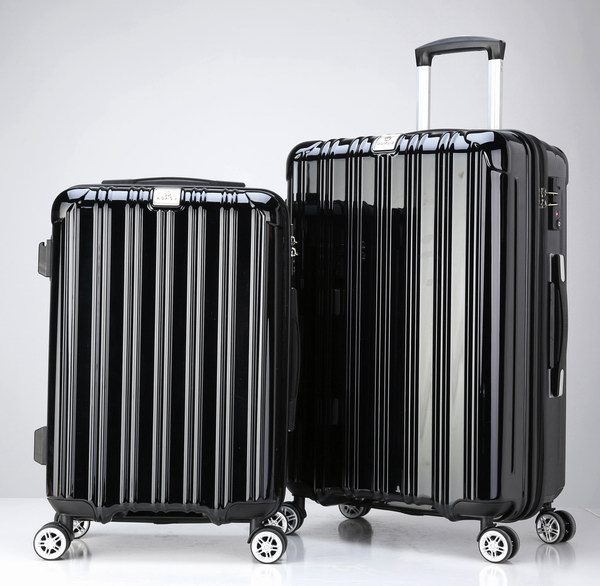luggage: (33, 176, 292, 564)
